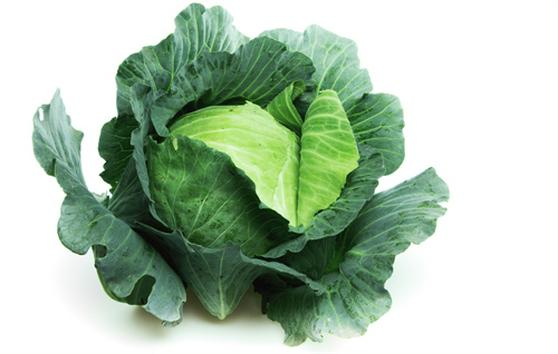cabbage: (100, 56, 381, 331)
